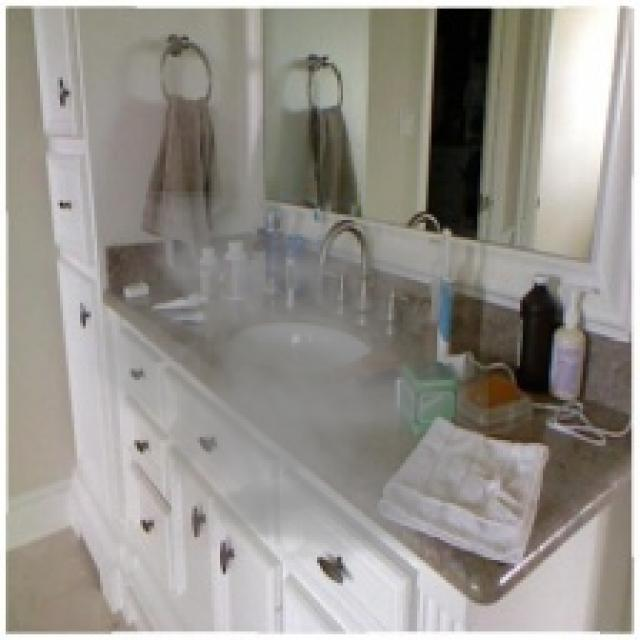Smoke: (71, 191, 488, 563)
